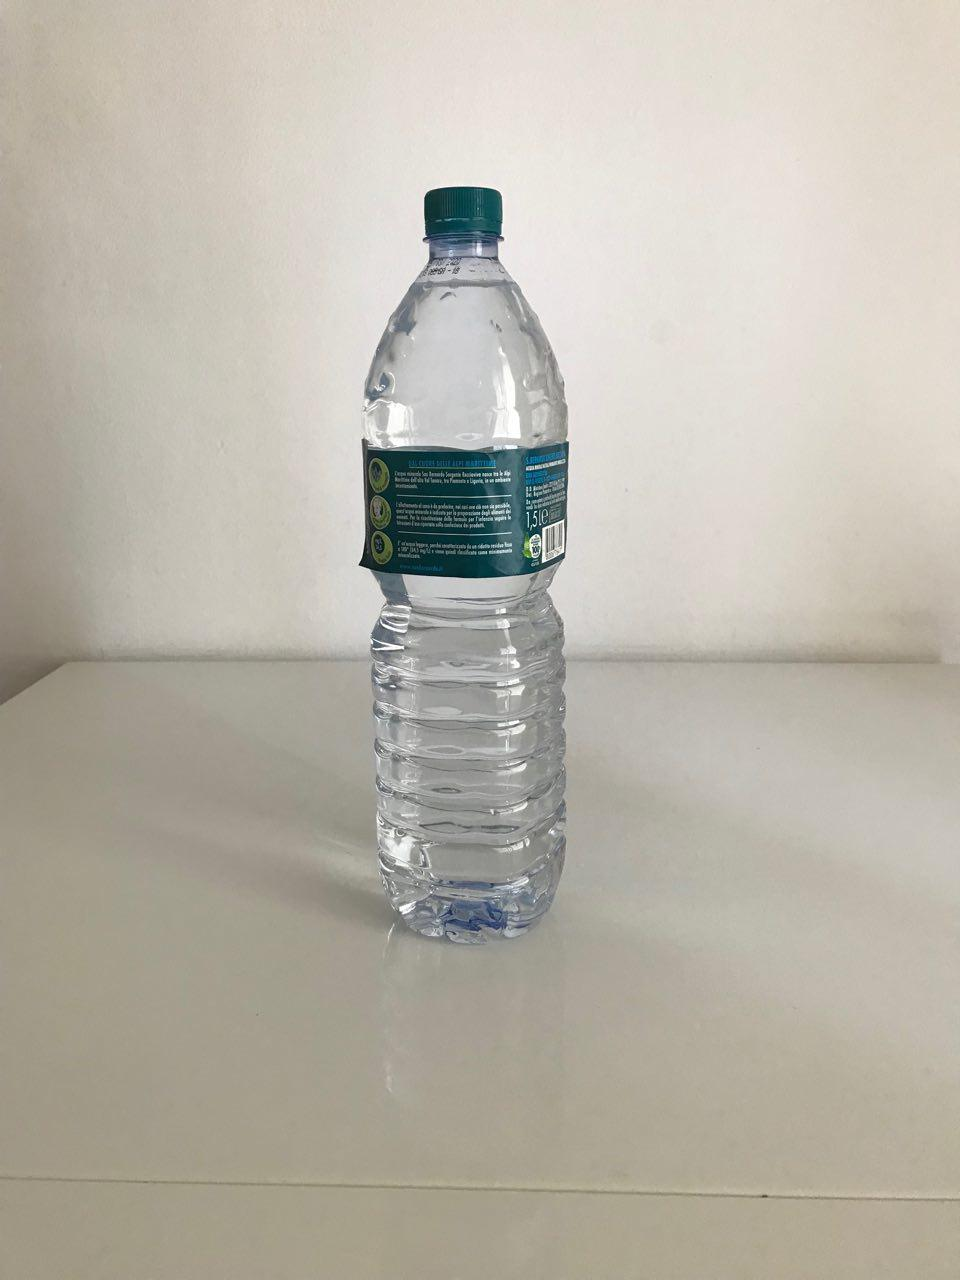san_bernardo: (358, 185, 571, 945)
